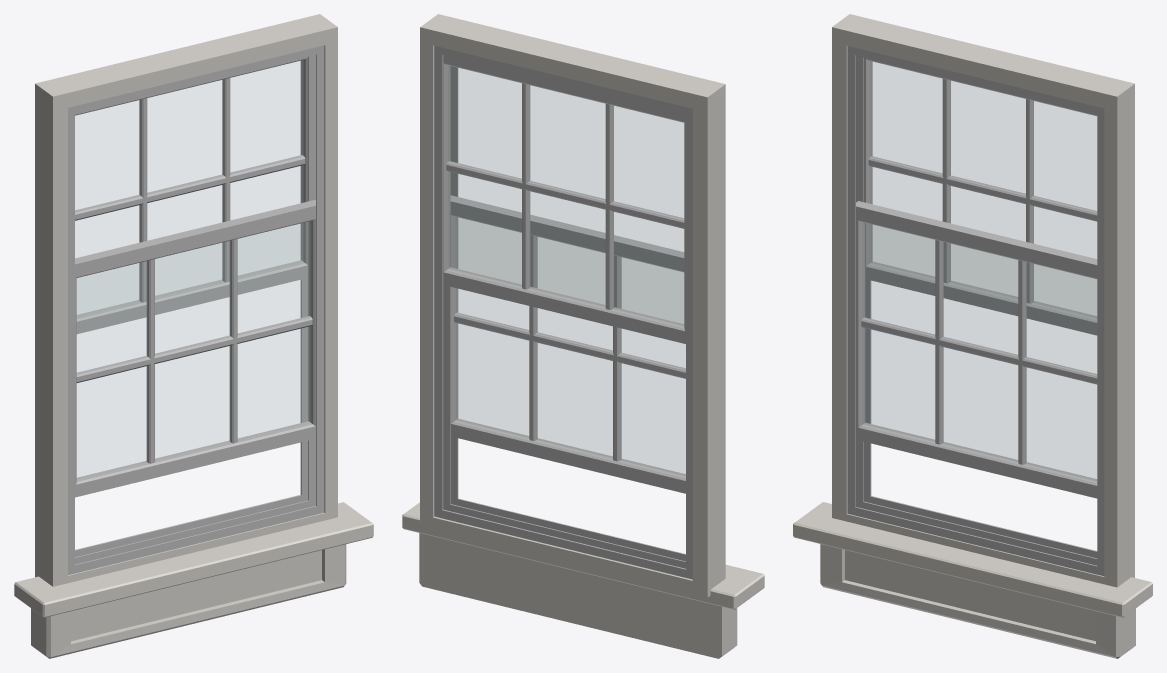
File: A16_Windows.fbx
3 views of the same model, side by side, from view 1: azimuth 30°, elevation 25°; view 2: azimuth 150°, elevation 25°; view 3: azimuth 330°, elevation 25° (orthographic).
Parts seen in each view (by area): view 1: pCube29; view 2: pCube29; view 3: pCube29.
Boxes of the visible parts, x1,y1,x2,y2 form: pCube29: (14, 14, 373, 658); pCube29: (402, 14, 764, 658); pCube29: (793, 14, 1152, 658).
Bounding box in the file's own units: 6.35 × 10.25 × 1.1.
